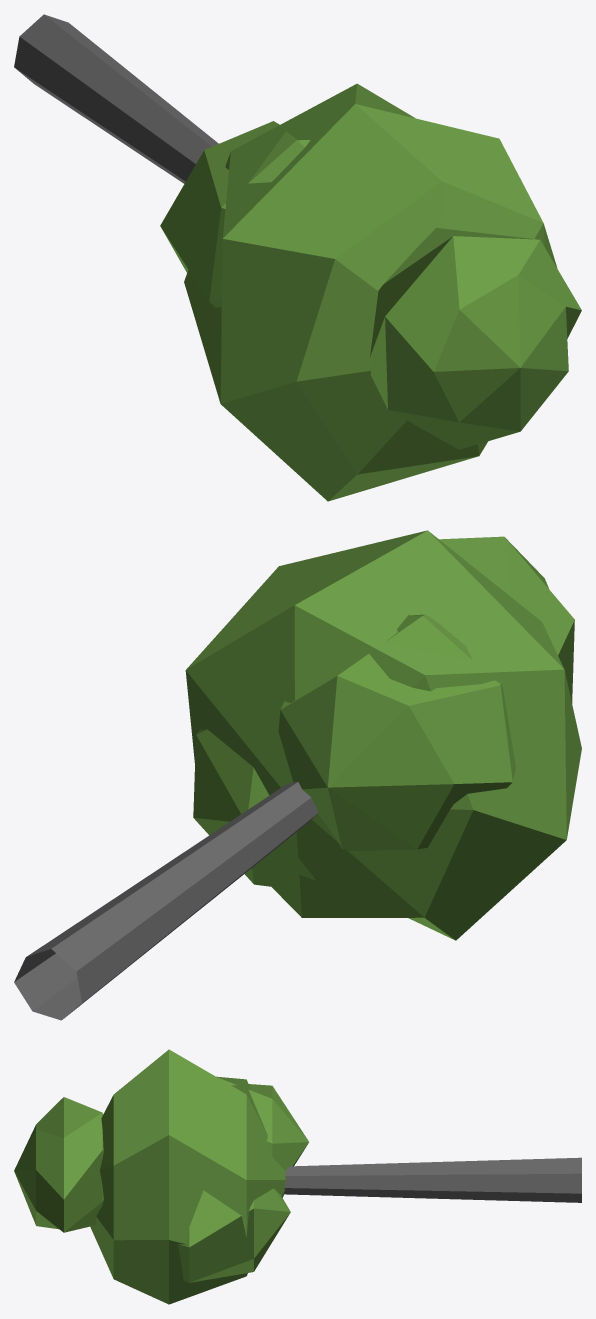
Rendered from growth_2.glb.
The picture shows the model from 3 angles, top to bottom: view 1: azimuth 30°, elevation 25°; view 2: azimuth 150°, elevation 25°; view 3: azimuth 270°, elevation 25°; orthographic projection. The views are drawn at different scales.
Visible parts, largest first — view 1: tree_04_growth_2; view 2: tree_04_growth_2; view 3: tree_04_growth_2.
Part boxes in pixels (box(x1,y1,x2,y2)): tree_04_growth_2: box(14, 14, 581, 501); tree_04_growth_2: box(14, 530, 581, 1020); tree_04_growth_2: box(14, 1049, 581, 1304).
Size of the model in its own units: 14.27 by 15.82 by 34.12.
